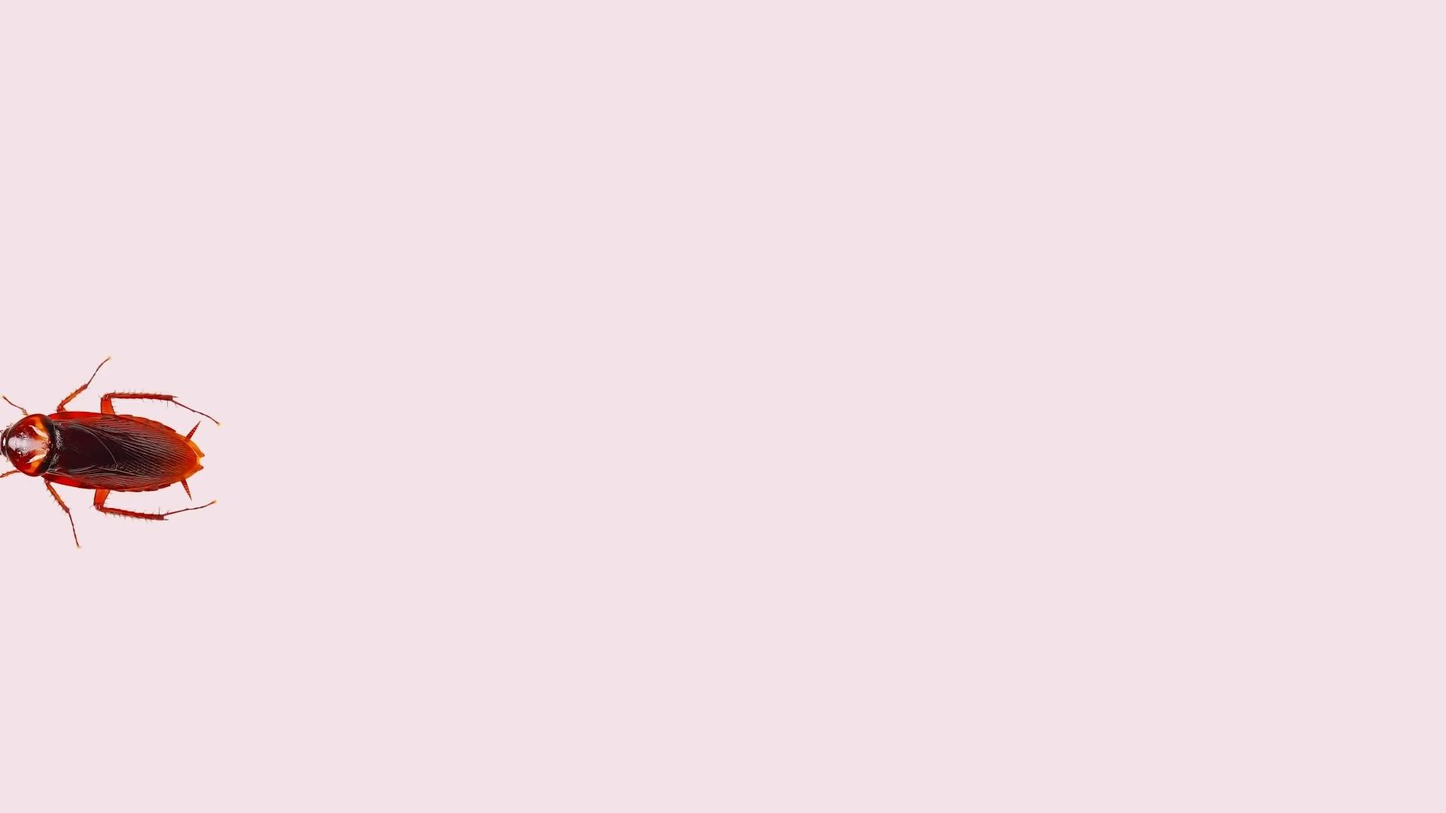cockroach: (0, 337, 221, 539)
